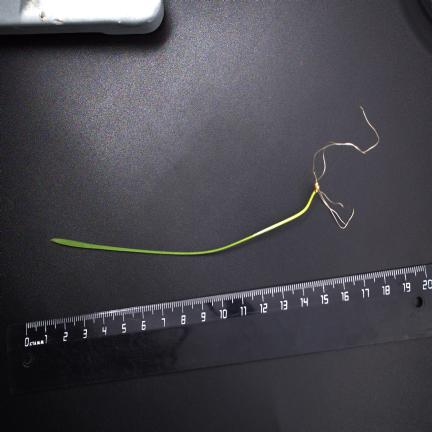leaf: (53, 233, 254, 256)
root1: (318, 193, 346, 225)
root2: (319, 191, 354, 229)
root3: (319, 191, 345, 208)
root4: (317, 141, 366, 182)
root5: (312, 105, 380, 181)
stem: (252, 183, 319, 237)
